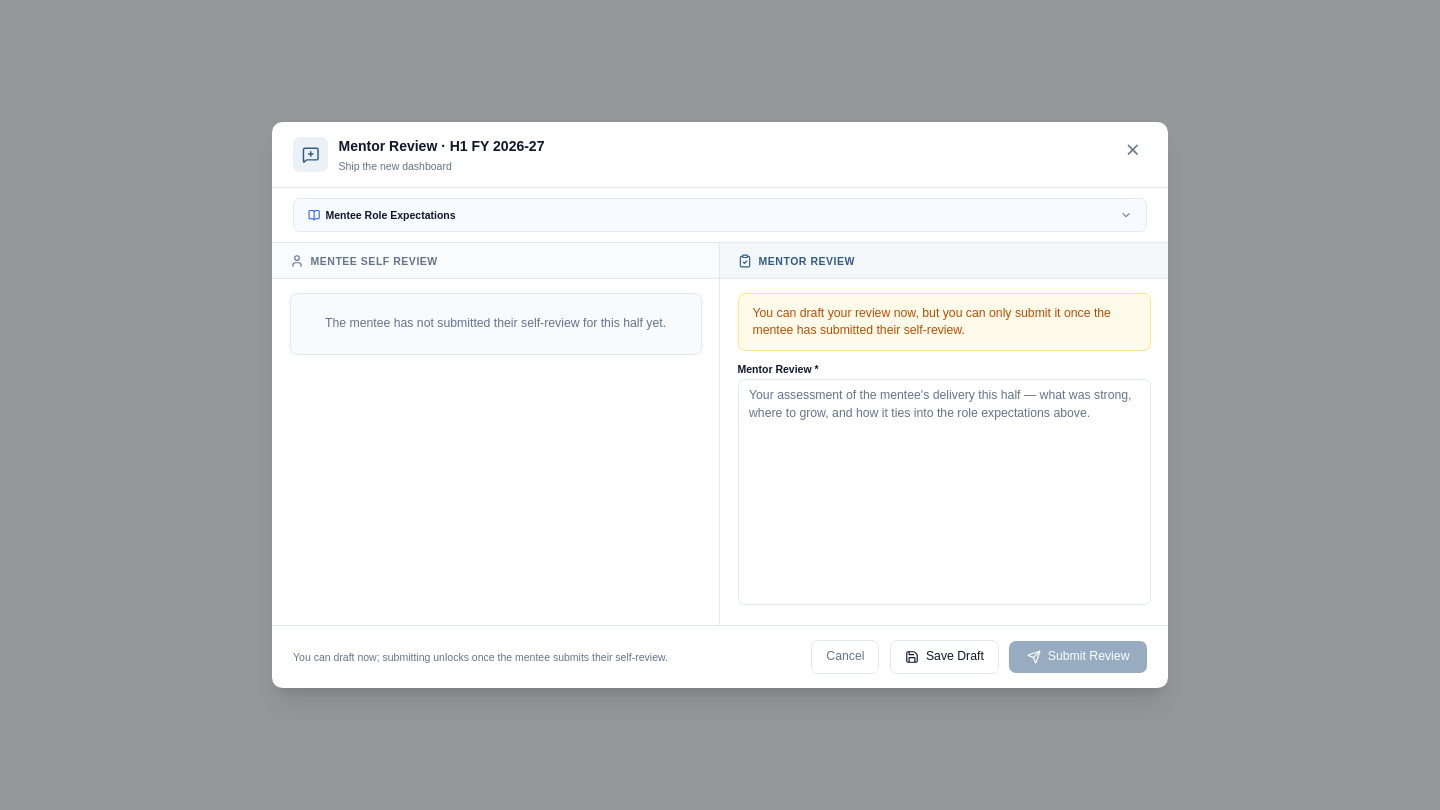
Test case: GoalMentorReviewModal — role expectations card › expands to show the mentee's (goal owner's) expectations, bullet-formatted
This screenshot has width=1440, height=810.
Step 1. Click the button "Mentee Role Expectations" → [391, 215], box [294, 199, 1146, 231]
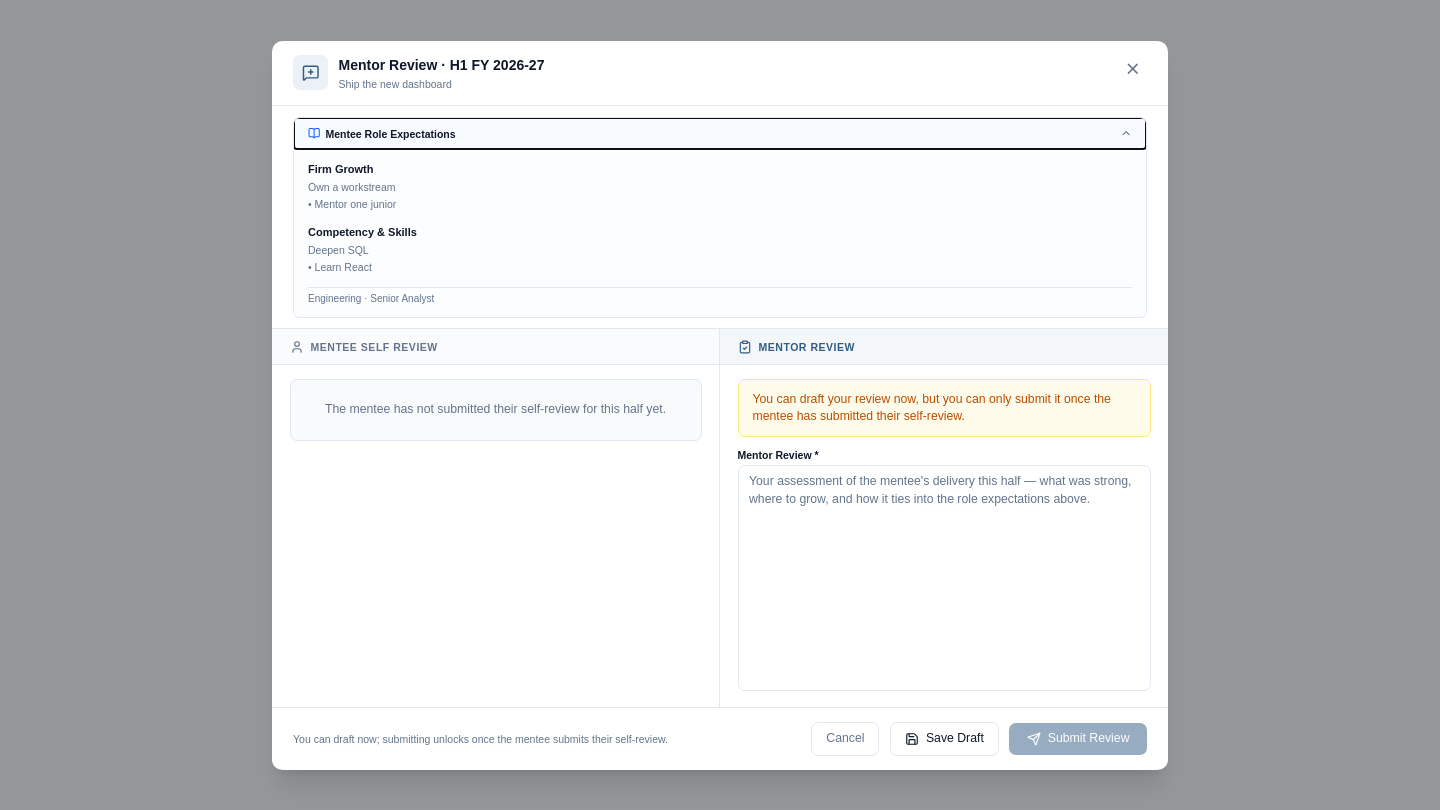
Expected: the text "Firm Growth" is shown, [308, 163, 373, 175]
Expected: the text "Competency & Skills" is shown, [308, 226, 417, 238]
Expected: the text "Own a workstream • Mentor one junior" is shown, [308, 181, 396, 210]
